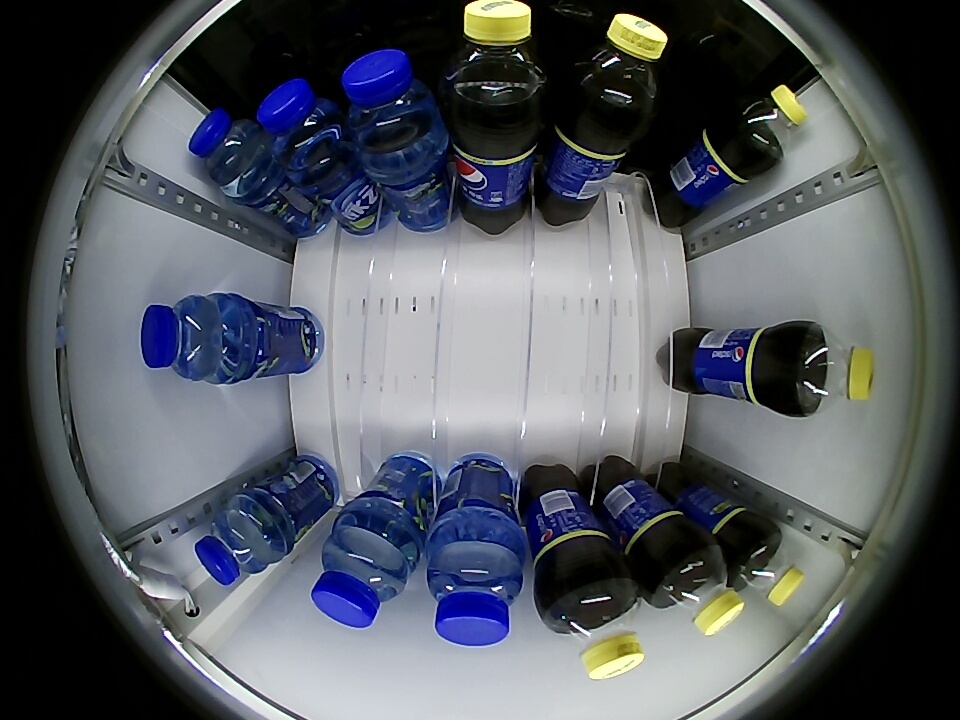baishikele: (440, 0, 550, 110), (568, 12, 669, 122), (543, 575, 645, 682), (649, 543, 746, 637), (793, 324, 875, 415), (731, 85, 807, 162), (732, 528, 804, 607)
maidong: (340, 48, 444, 161), (310, 521, 413, 629), (427, 535, 524, 648), (256, 77, 346, 178), (140, 294, 236, 382), (194, 496, 286, 586), (187, 108, 268, 191)
